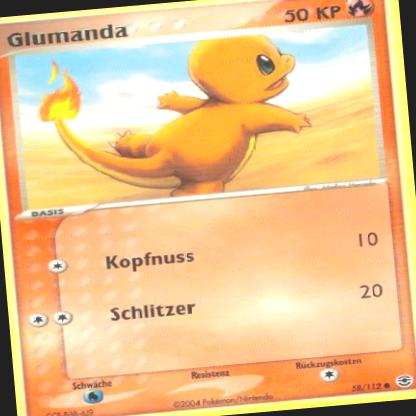Charmander: (48, 31, 323, 207)
